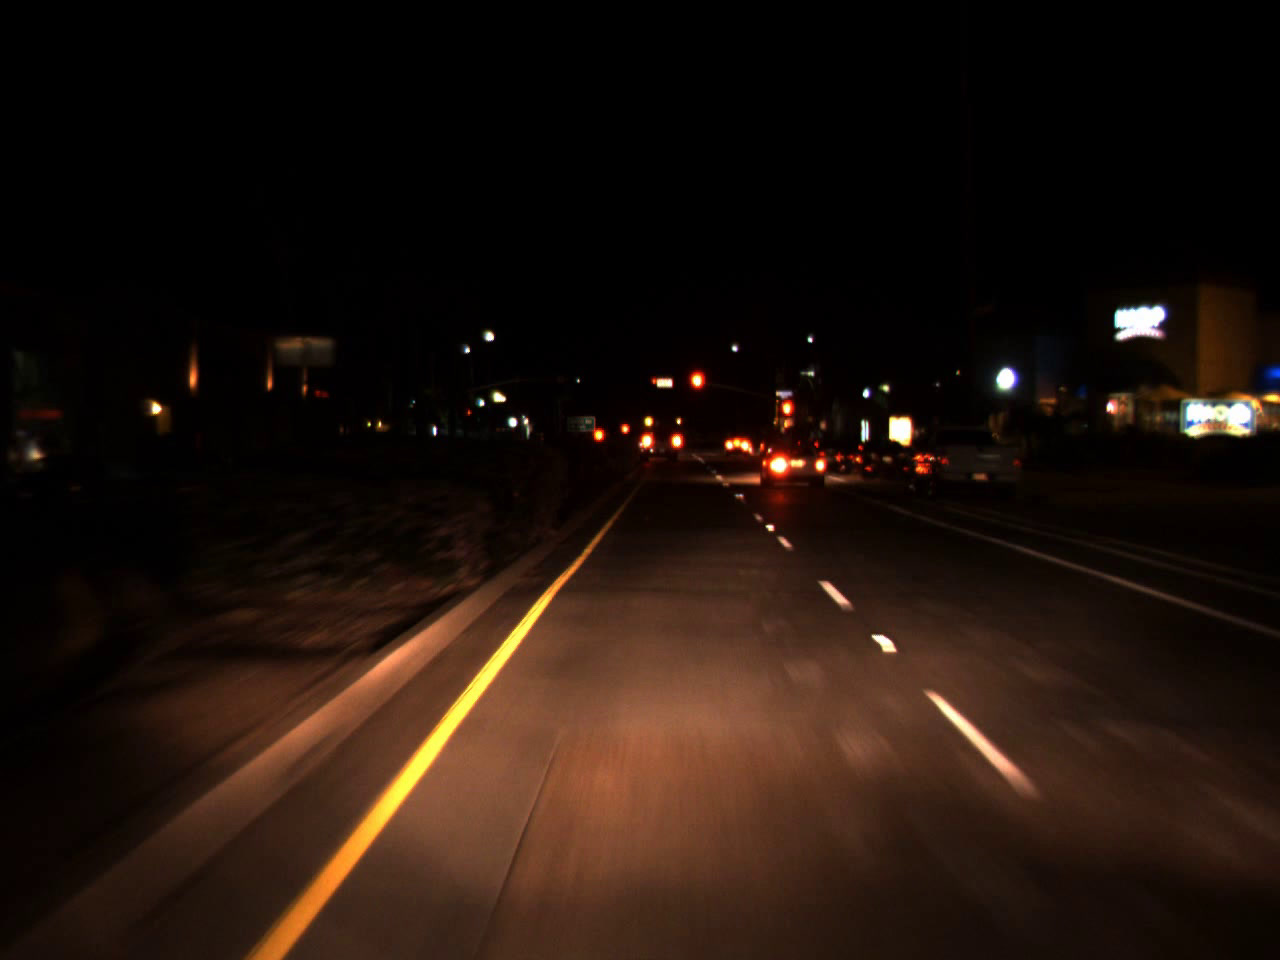stop: (687, 368, 706, 411), (779, 397, 795, 437), (650, 377, 657, 390)
